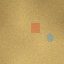person: (46, 33, 53, 42)
vehicle: (30, 22, 39, 32)
